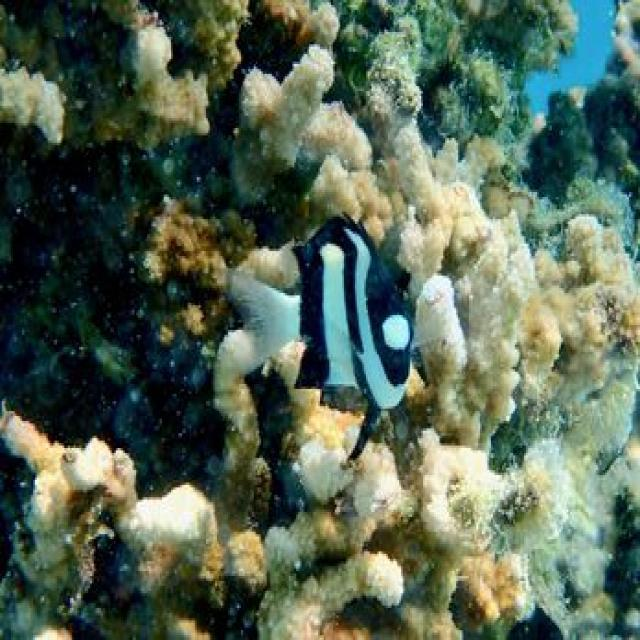Three_striped DasmselFish: (229, 217, 420, 474)
